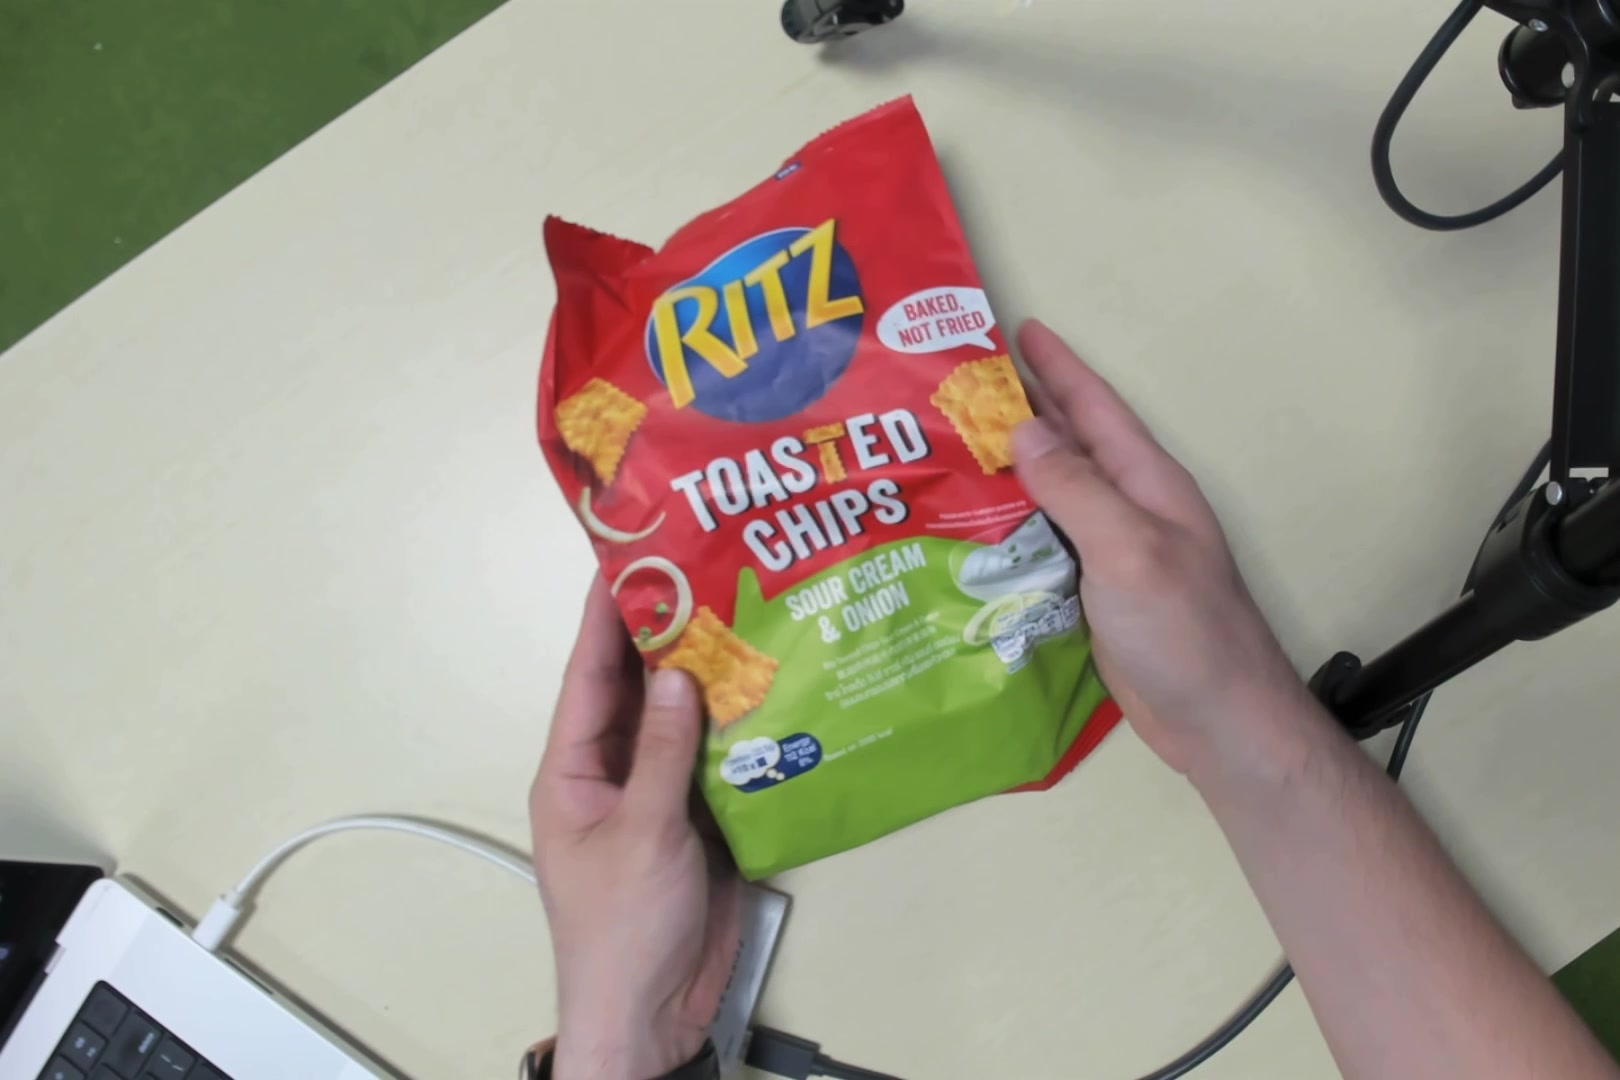BiscuitsCrackersCookies_200-299g_NonHalal_NonHealthy: (597, 184, 1070, 863)
